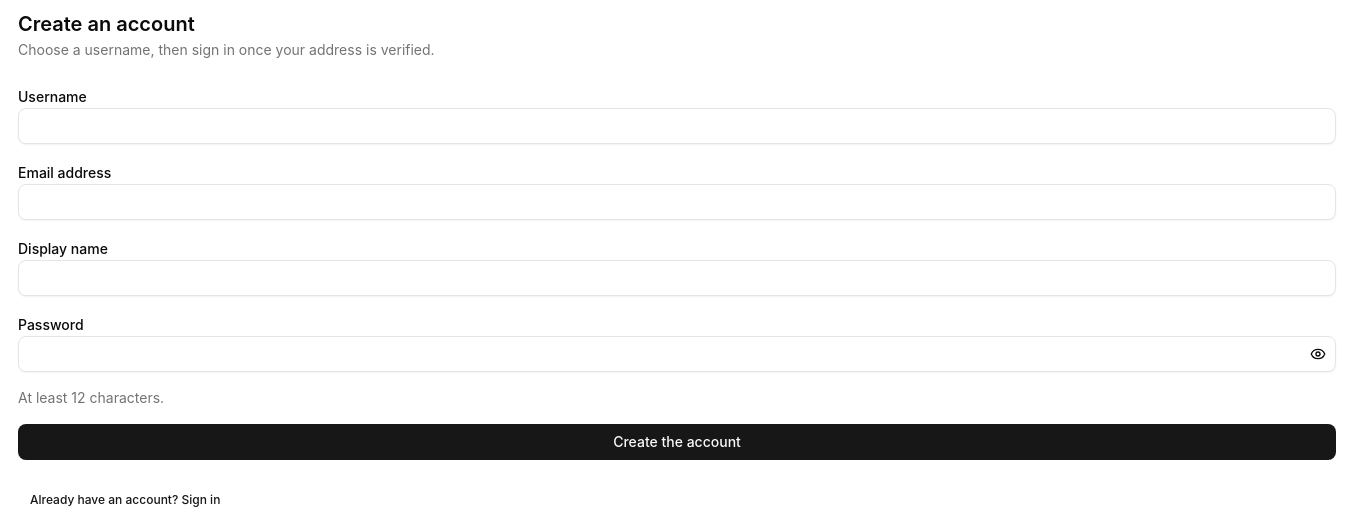
it: replaces the form with the closed message and refetches the policy when registration closed
Type "jane" into the field labelled "Username" at coordinates (677, 126), box [18,108,1336,144]
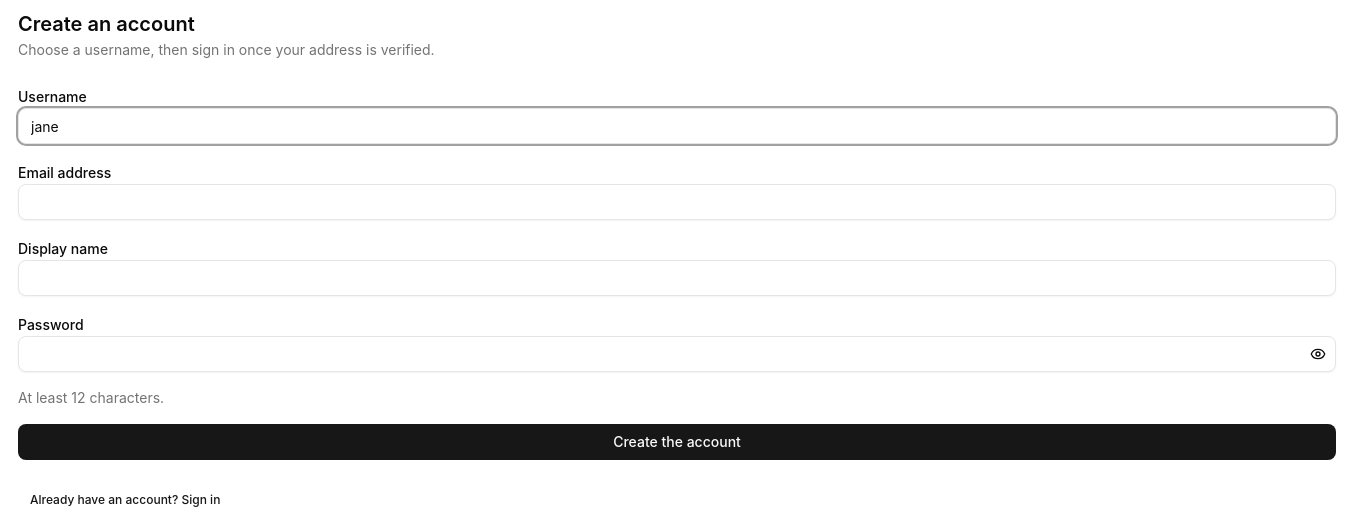
Type "jane@example.com" into the field labelled "Email address" at coordinates (677, 202), box [18,184,1336,220]
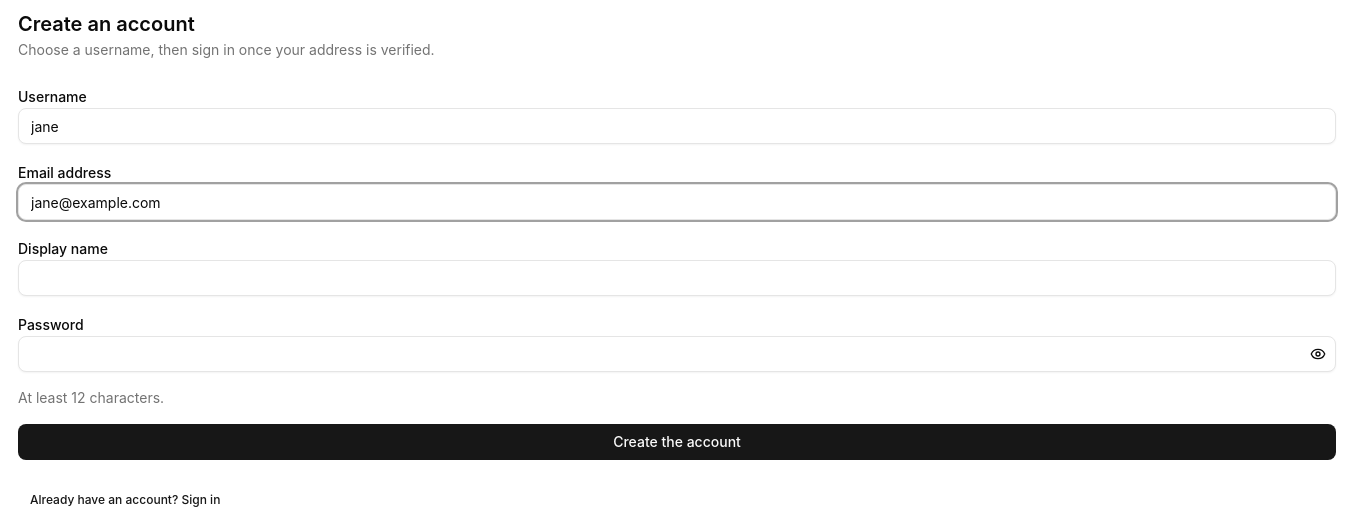
Type "Jane Doe" into the field labelled "Display name" at coordinates (677, 278), box [18,260,1336,296]
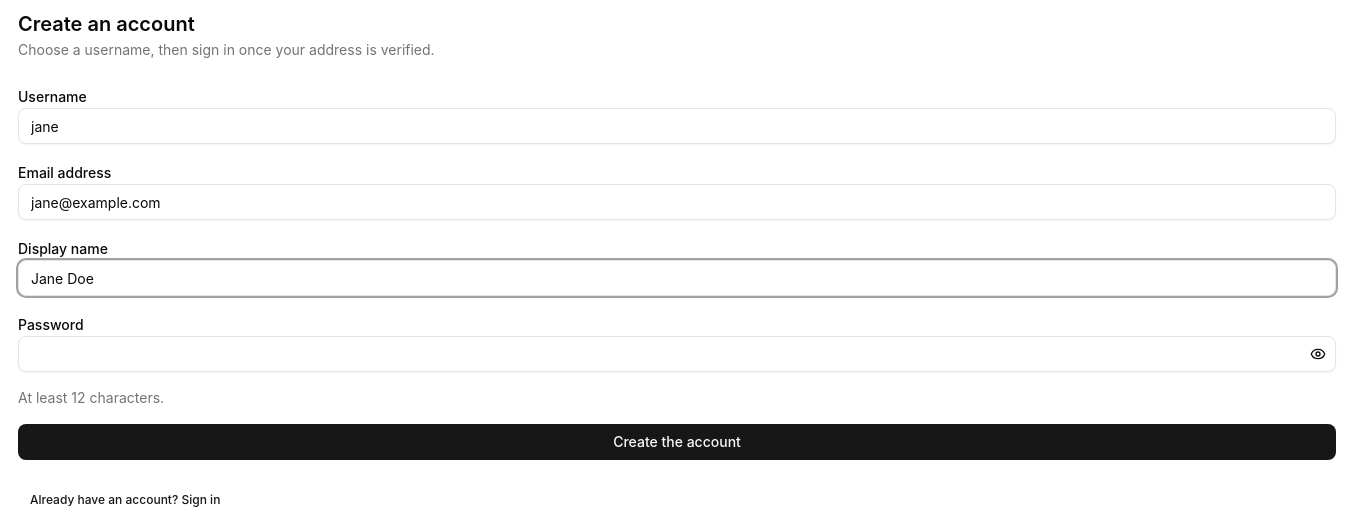
Type "a-long-enough-password" into the password field labelled "Password" at coordinates (677, 354), box [18,336,1336,372]
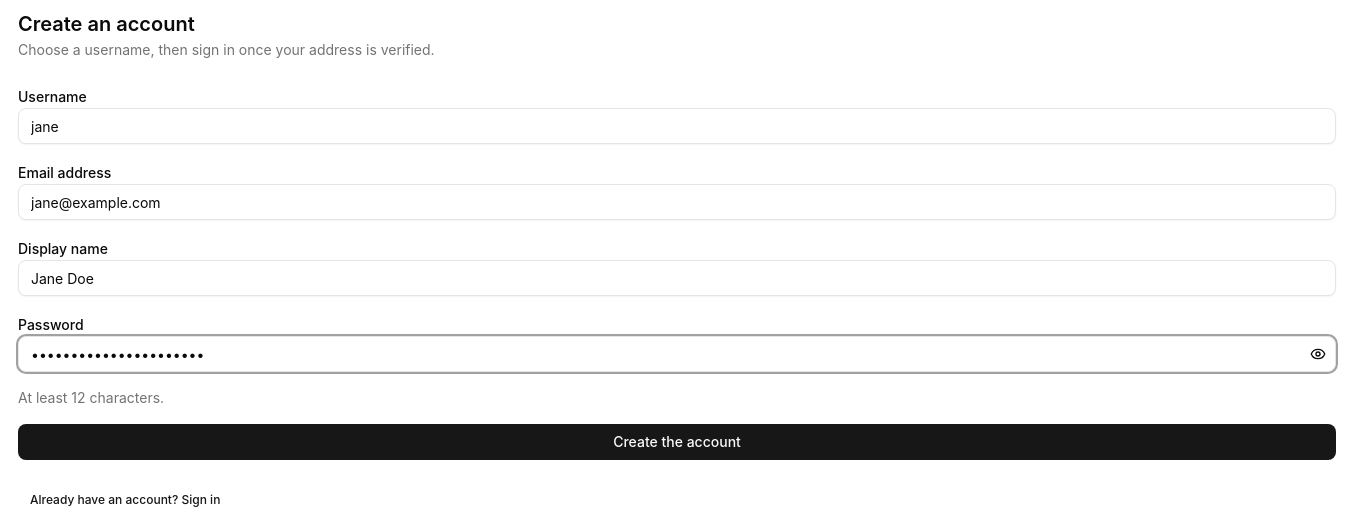
Click the button "Create the account" at coordinates (677, 442), box [18,424,1336,460]
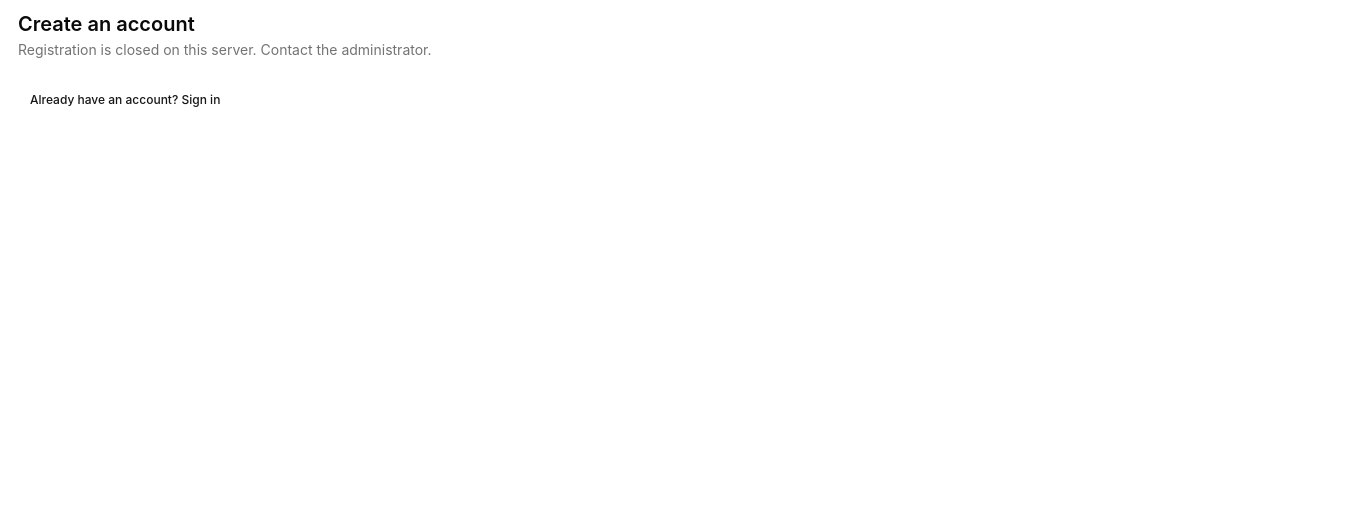
Expected: the text "Registration is closed" is shown, [18,41,432,58]
Expected: the text labelled "username" is gone
